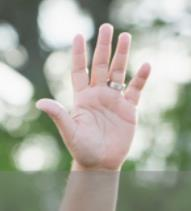down: (31, 19, 152, 167)
